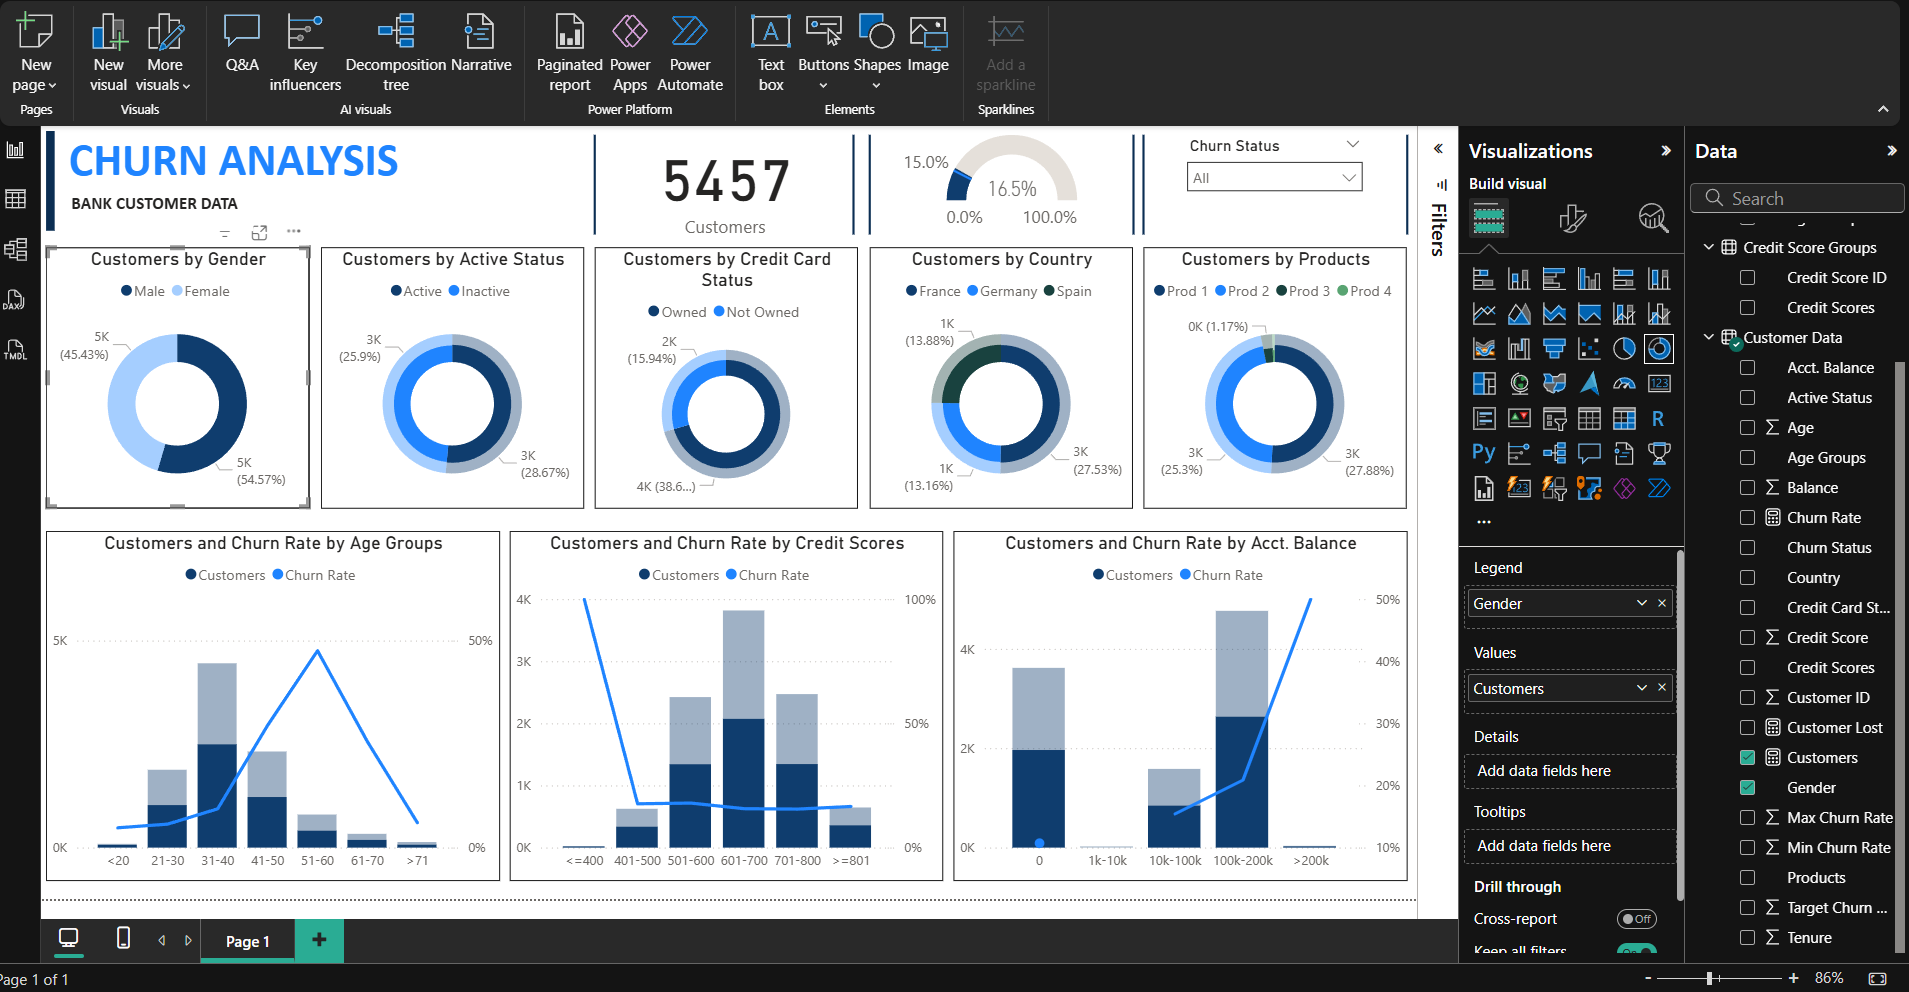

The page's visual inventory and layout, read from the dashboard file:
{"tool":"powerbi","page":{"name":"Page 1","canvas":[1280,720],"ordinal":0},"visuals":[{"type":"card","fields":{"Values":["Customer Data.Customers"]},"box":[554.7,3.5,164,103.5],"z":0},{"type":"donutChart","fields":{"Category":["Customer Data.Gender"],"Y":["Customer Data.Customers"]},"box":[4.7,112.3,245,243],"z":1000},{"type":"donutChart","fields":{"Category":["Customer Data.Active Status"],"Y":["Customer Data.Customers"]},"box":[259.9,112.3,245,243],"z":2000},{"type":"donutChart","fields":{"Category":["Customer Data.Credit Card Status"],"Y":["Customer Data.Customers"]},"box":[515.1,112.3,245,243],"z":3000},{"type":"donutChart","fields":{"Y":["Customer Data.Customers"],"Category":["Customer Data.Country"]},"box":[770.4,112.3,245,243],"z":4000},{"type":"donutChart","fields":{"Category":["Customer Data.Products"],"Y":["Customer Data.Customers"]},"box":[1025.6,112.3,245,243],"z":5000},{"type":"lineStackedColumnComboChart","fields":{"Category":["Age Groups.Age Groups"],"Y":["Customer Data.Customers"],"Y2":["Customer Data.Churn Rate"]},"box":[4.7,376.7,422.1,325.6],"z":6000},{"type":"lineStackedColumnComboChart","fields":{"Y":["Customer Data.Customers"],"Y2":["Customer Data.Churn Rate"],"Category":["Credit Score Groups.Credit Scores"]},"box":[436,376.7,403.5,325.6],"z":7000},{"type":"lineStackedColumnComboChart","fields":{"Y":["Customer Data.Customers"],"Y2":["Customer Data.Churn Rate"],"Category":["Acct Balance Groups.Acct. Balance"]},"box":[848.8,376.7,422.1,325.6],"z":8000},{"type":"slicer","fields":{"Values":["Customer Data.Churn Status"]},"box":[1055.8,4.7,183.7,102.3],"z":9000},{"type":"gauge","fields":{"MaxValue":["Max(Customer Data.Max Churn Rate)"],"MinValue":["Min(Customer Data.Min Churn Rate)"],"Y":["Customer Data.Churn Rate"],"TargetValue":["Max(Customer Data.Target Churn Rate)"]},"box":[786,3.5,189.5,102.3],"z":10000},{"type":"textbox","box":[21,0,327.9,67.4],"z":11000},{"type":"textbox","box":[23.3,57,174.4,40.7],"z":12000},{"type":"shape","box":[500,8.1,30.2,93],"z":13000},{"type":"shape","box":[740.7,8.1,30.2,93],"z":14000},{"type":"shape","box":[755.8,8.1,30.2,93],"z":14001},{"type":"shape","box":[1001.2,8.1,30.2,93],"z":14002},{"type":"shape","box":[1010.5,8.1,30.2,93],"z":14003},{"type":"shape","box":[1261.6,8.1,18.6,93],"z":14004},{"type":"shape","box":[0,0,12.8,107],"z":14005}]}

Visuals, with their boxes on the page's 1280x720 design canvas (x1, y1, x2, y2). These are canvas units, not pixel positions in the 1909x992 screenshot, which may show the page scaled, cropped or inside an application window:
card - Customer Data.Customers: Rect(555, 4, 719, 107)
donutChart - Customer Data.Gender x Customer Data.Customers: Rect(5, 112, 250, 355)
donutChart - Customer Data.Active Status x Customer Data.Customers: Rect(260, 112, 505, 355)
donutChart - Customer Data.Credit Card Status x Customer Data.Customers: Rect(515, 112, 760, 355)
donutChart - Customer Data.Customers x Customer Data.Country: Rect(770, 112, 1015, 355)
donutChart - Customer Data.Products x Customer Data.Customers: Rect(1026, 112, 1271, 355)
lineStackedColumnComboChart - Age Groups.Age Groups x Customer Data.Customers: Rect(5, 377, 427, 702)
lineStackedColumnComboChart - Customer Data.Customers x Customer Data.Churn Rate: Rect(436, 377, 840, 702)
lineStackedColumnComboChart - Customer Data.Customers x Customer Data.Churn Rate: Rect(849, 377, 1271, 702)
slicer - Customer Data.Churn Status: Rect(1056, 5, 1240, 107)
gauge - Max(Customer Data.Max Churn Rate) x Min(Customer Data.Min Churn Rate): Rect(786, 4, 976, 106)
textbox: Rect(21, 0, 349, 67)
textbox: Rect(23, 57, 198, 98)
shape: Rect(500, 8, 530, 101)
shape: Rect(741, 8, 771, 101)
shape: Rect(756, 8, 786, 101)
shape: Rect(1001, 8, 1031, 101)
shape: Rect(1010, 8, 1041, 101)
shape: Rect(1262, 8, 1280, 101)
shape: Rect(0, 0, 13, 107)
